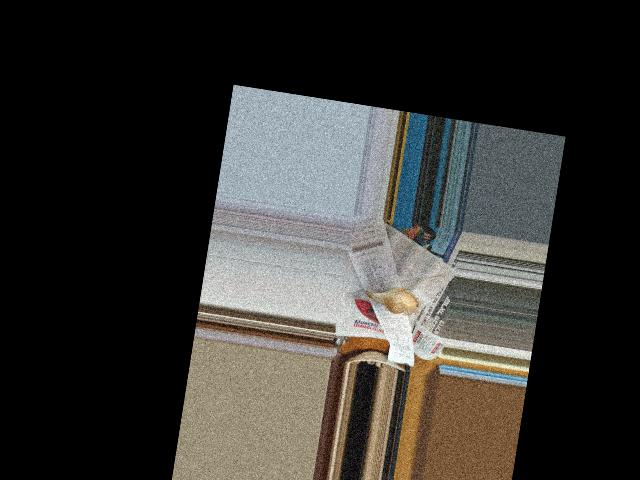onion: (377, 283, 417, 317)
